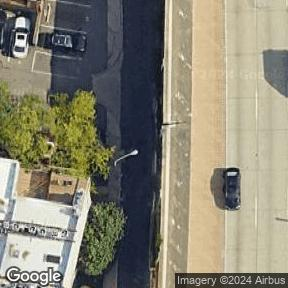vegetation: (0, 82, 119, 181), (80, 200, 126, 277)
